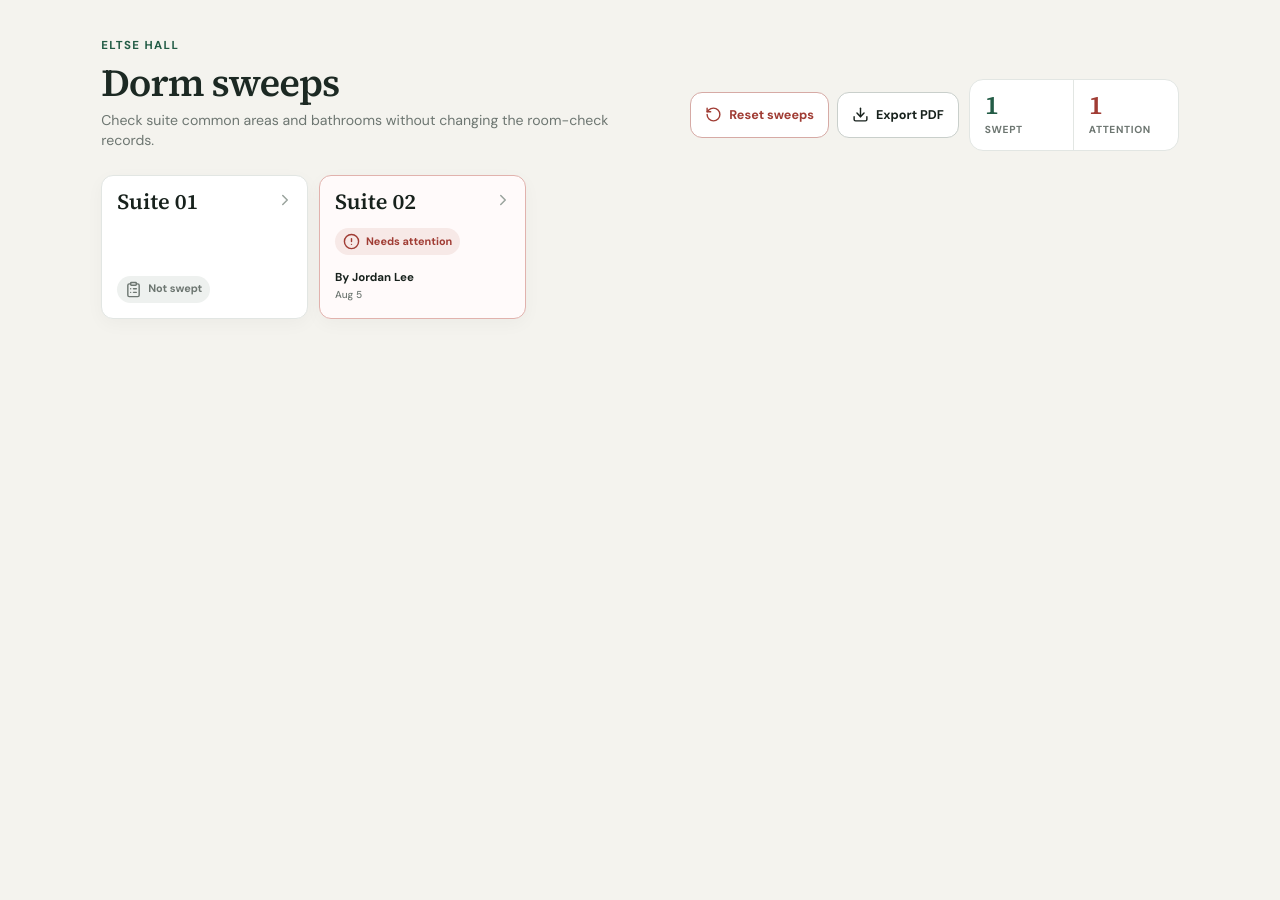
Test: Dorm sweeps › reopens a saved sweep with its recorded answers and notes
This screenshot has width=1280, height=900.
Click the button "Suite 02 Needs attention By Jordan Lee Aug 5" at [422, 247], box [319,175,526,319]
(page scrolled)
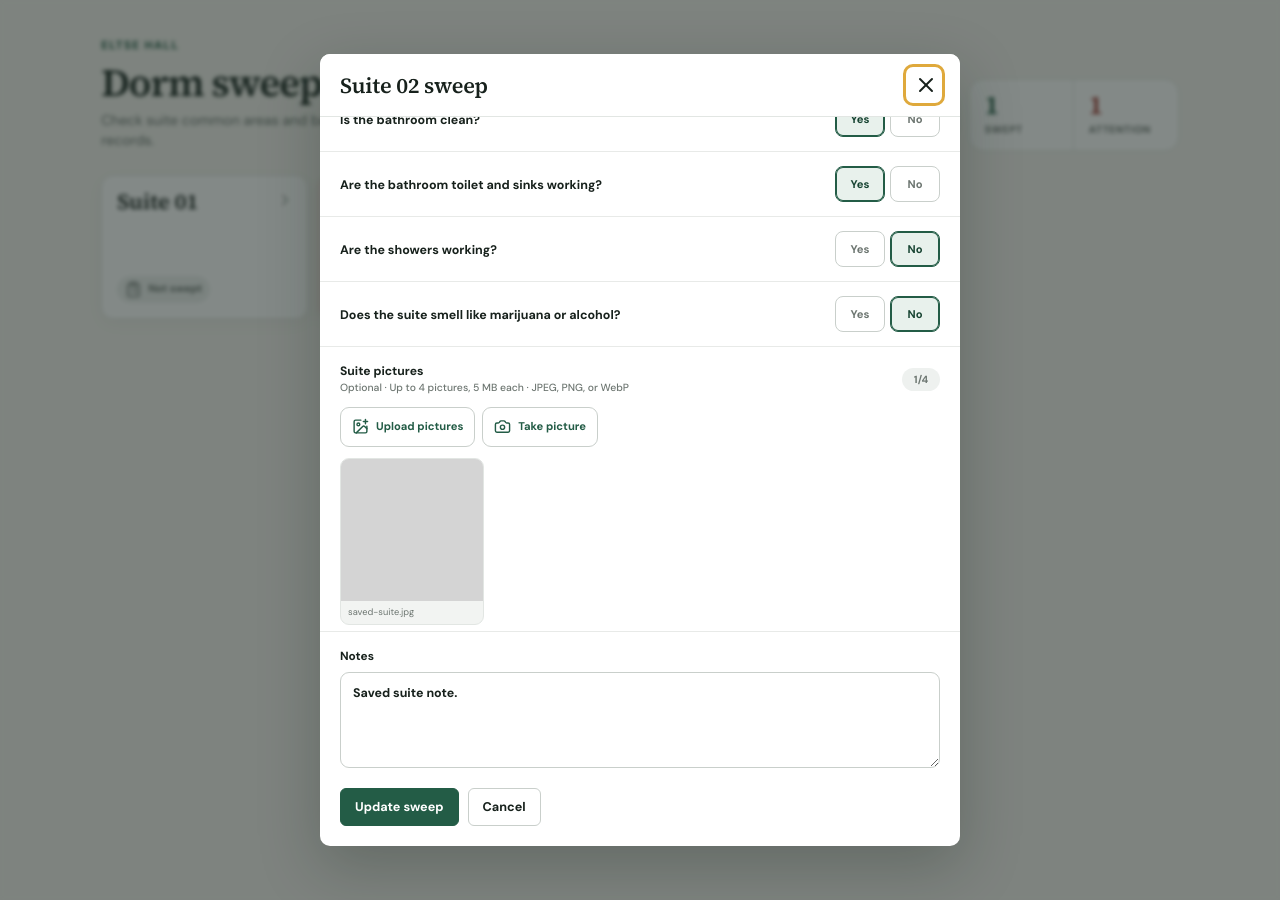
Result: the 4th radio button labelled "No" is checked at [890,231,940,267]
Result: the text box labelled "Notes" holds "Saved suite note." at [340,672,940,768]
Result: the button "Update sweep" is shown at [340,788,458,826]
